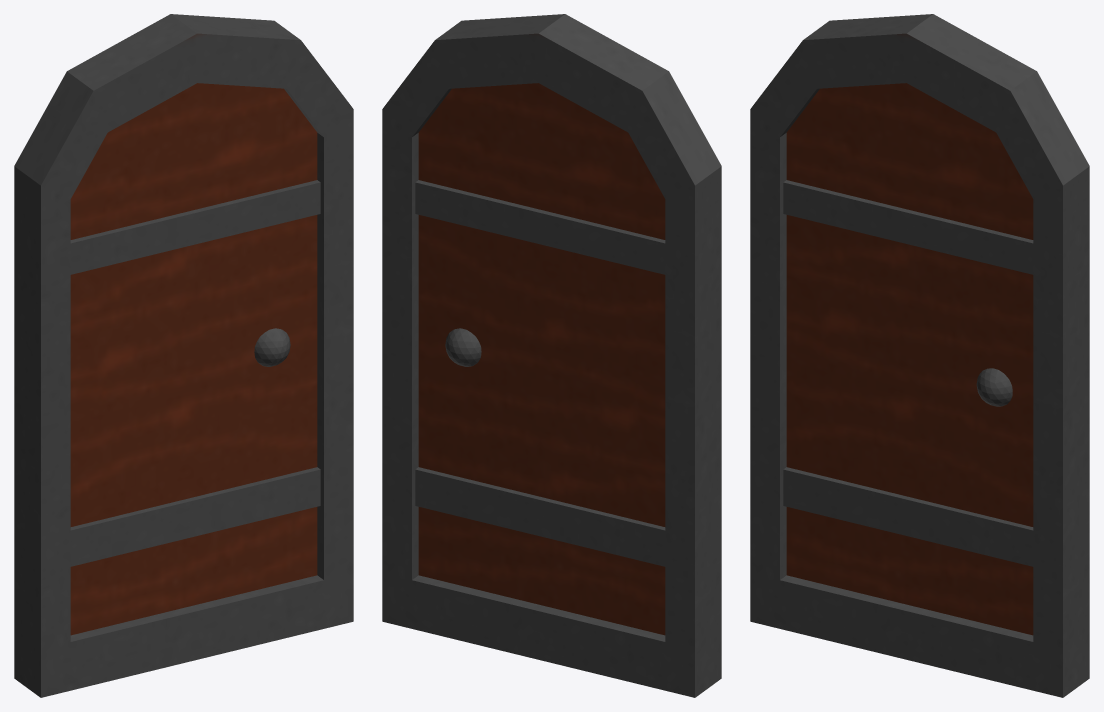
File: door.fbx
3 renders of one model, left to right at view 1: azimuth 30°, elevation 25°; view 2: azimuth 150°, elevation 25°; view 3: azimuth 330°, elevation 25°, orthographic.
Parts seen in each view (by area): view 1: door; view 2: door; view 3: door.
Part boxes in pixels (x1,y1,x2,y2): door: (14,14,353,697); door: (382,14,721,697); door: (750,14,1089,697).
Bounding box in the file's own units: 5.41 × 0.871 × 10.35.
